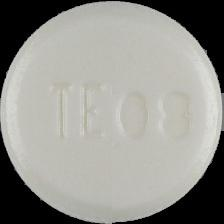0172-2908: (0, 0, 224, 224)
